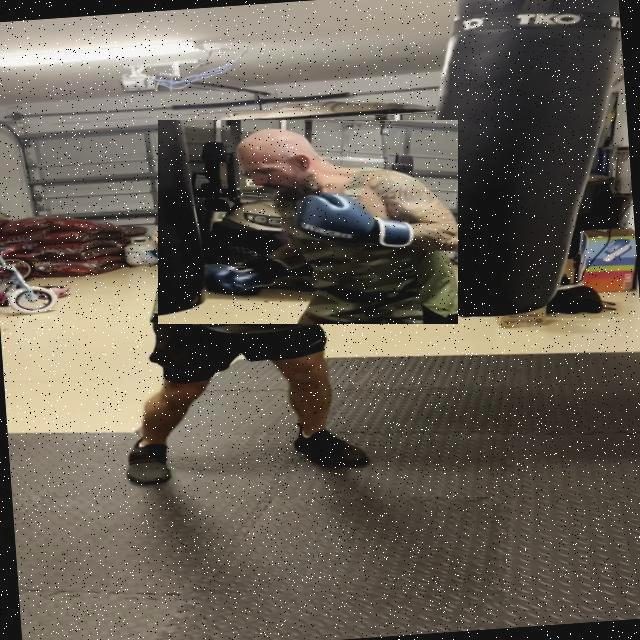punch: (158, 120, 458, 324)
